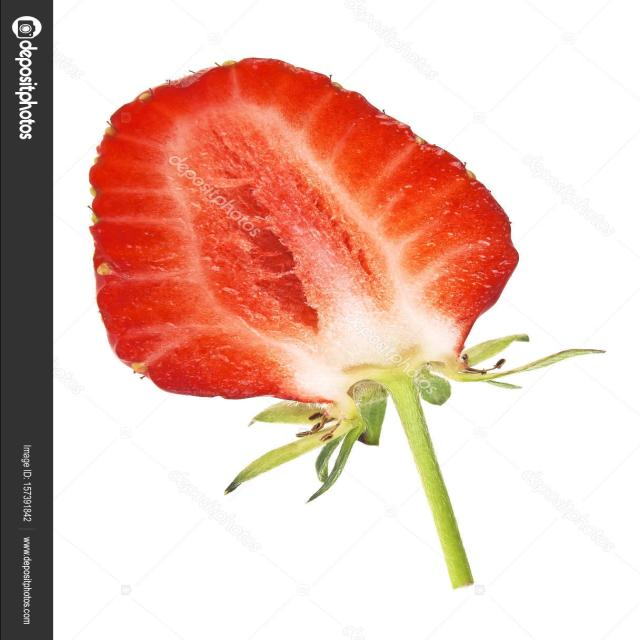strawberry: (66, 34, 616, 598)
